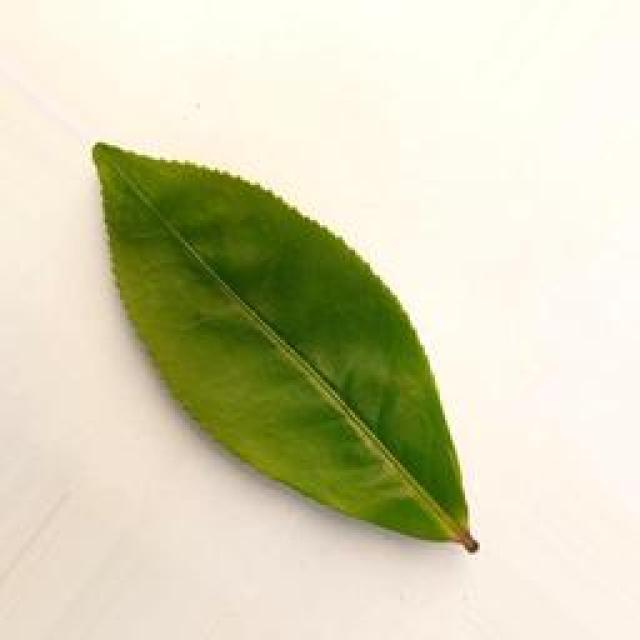Healthy: (75, 132, 487, 558)
